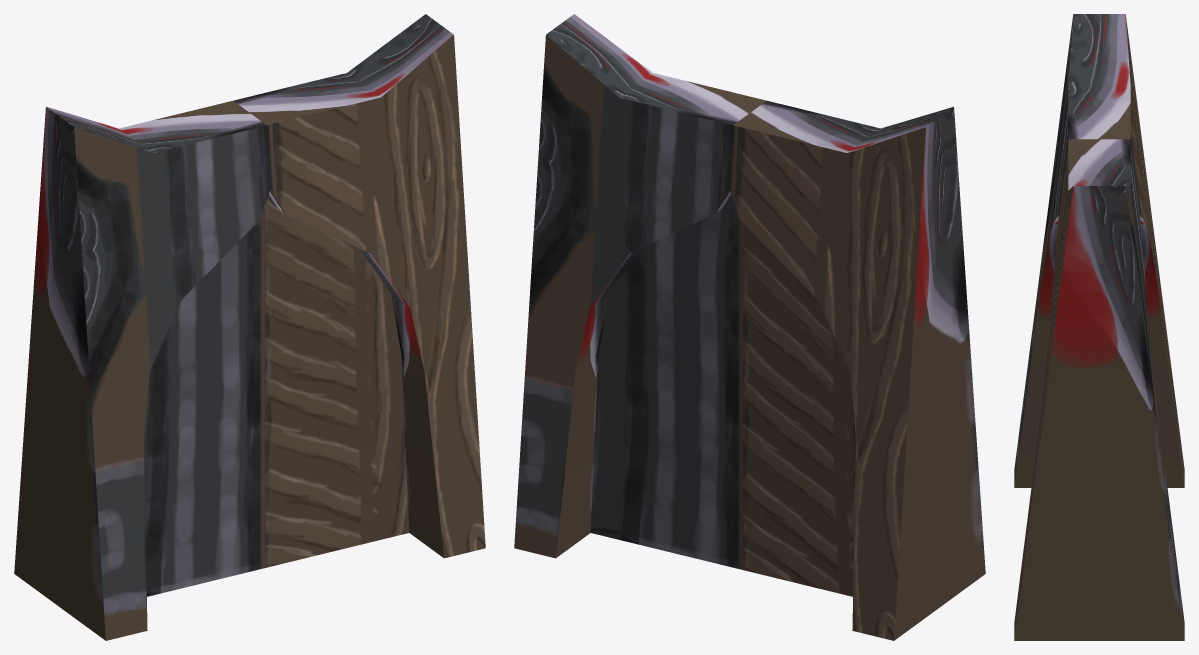
The model's file is WallShort.obj.
3 views of the same model, side by side, from view 1: azimuth 30°, elevation 25°; view 2: azimuth 150°, elevation 25°; view 3: azimuth 270°, elevation 25° (orthographic). The views are drawn at different scales.
Parts seen in each view (by area): view 1: WallShort; view 2: WallShort; view 3: WallShort.
Boxes of the visible parts, left/top/right/bottom form: WallShort: left=14, top=14, right=485, bottom=640; WallShort: left=514, top=14, right=985, bottom=640; WallShort: left=1014, top=14, right=1184, bottom=640.
Bounding box in the file's own units: 15 × 18.51 × 6.27.
